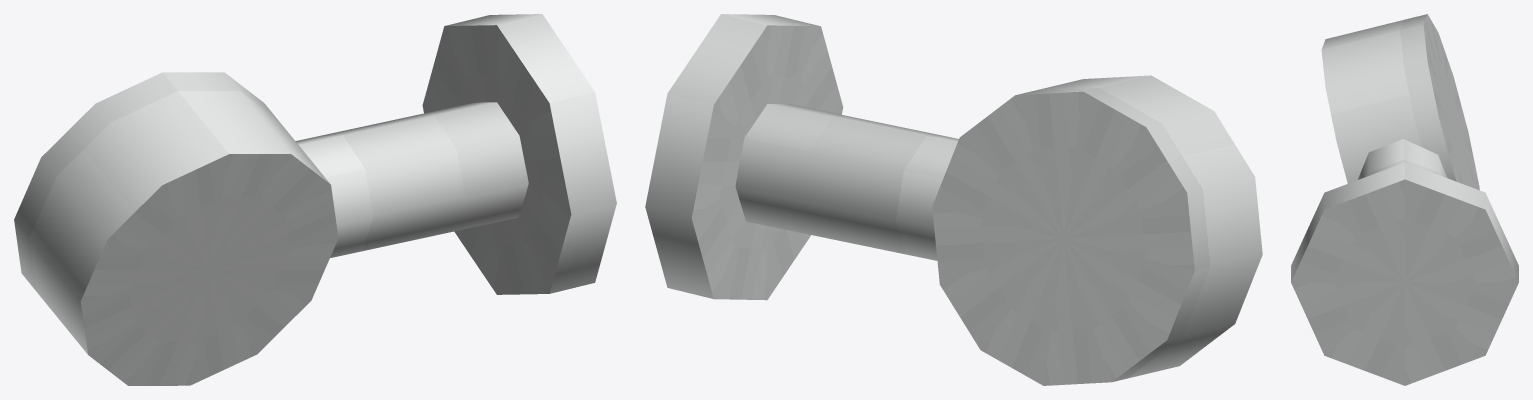
The model's file is trusssignalarm_stub_109.obj.
3 renders of one model, left to right at view 1: azimuth 30°, elevation 25°; view 2: azimuth 150°, elevation 25°; view 3: azimuth 270°, elevation 25°, orthographic. The views are drawn at different scales.
Visible parts, largest first — view 1: trusssignalarm_stub_109; view 2: trusssignalarm_stub_109; view 3: trusssignalarm_stub_109.
Part boxes in pixels (x1,y1,x2,y2): trusssignalarm_stub_109: [14, 14, 616, 385]; trusssignalarm_stub_109: [645, 14, 1262, 385]; trusssignalarm_stub_109: [1291, 14, 1518, 385].
Bounding box in the file's own units: 0.6744 × 0.3804 × 0.35.
